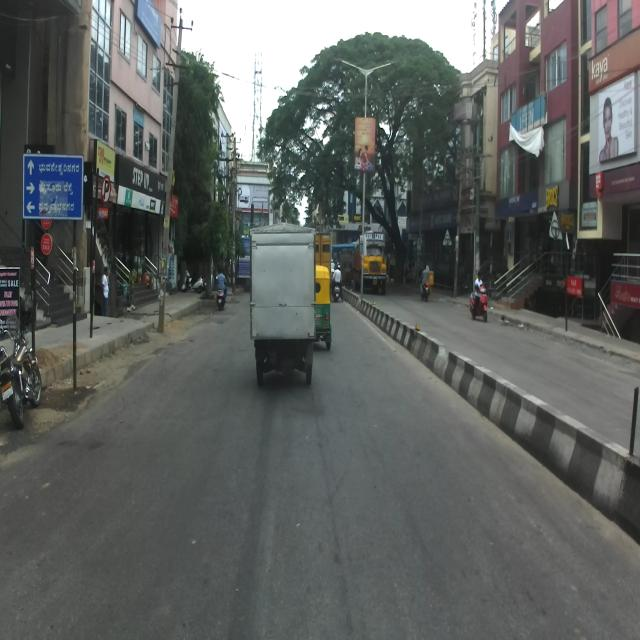electric pole ahead at: (152, 2, 198, 342)
motorcycle ahead at: (1, 320, 44, 442)
sign board ahead at: (20, 143, 86, 229)
truck ahead at: (248, 224, 317, 397)
